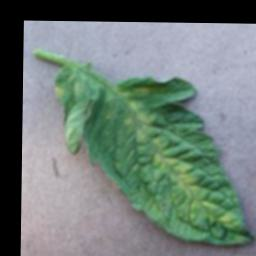Leaf_Mold: (124, 99, 239, 230), (53, 85, 62, 101)
